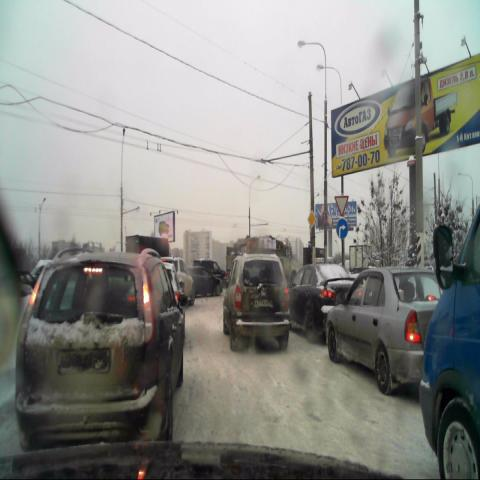2_1: (307, 208, 315, 228)
2_4: (334, 193, 350, 216)
3_29: (322, 210, 328, 223)
4_1_2: (336, 215, 348, 238)
